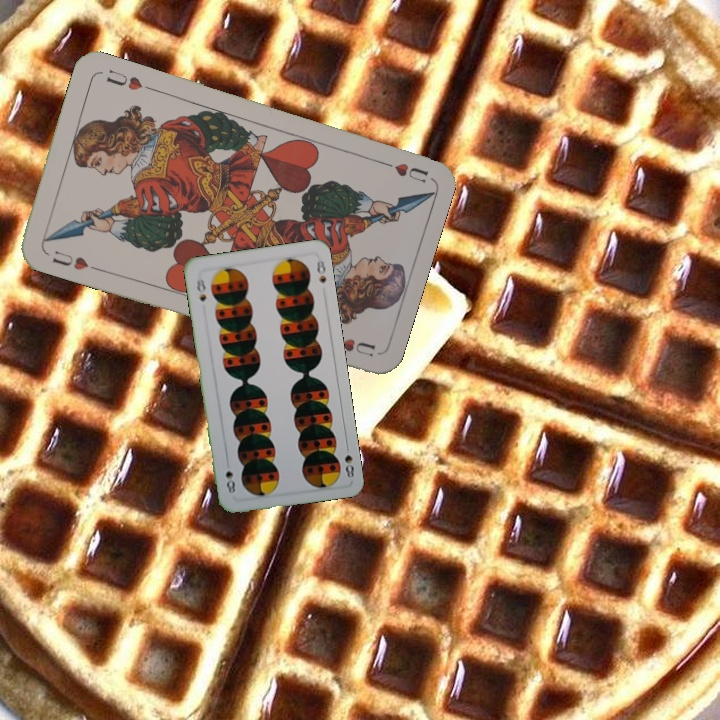HU: (374, 156, 431, 186), (48, 246, 91, 273)
S8: (341, 440, 357, 481), (193, 271, 209, 304)
